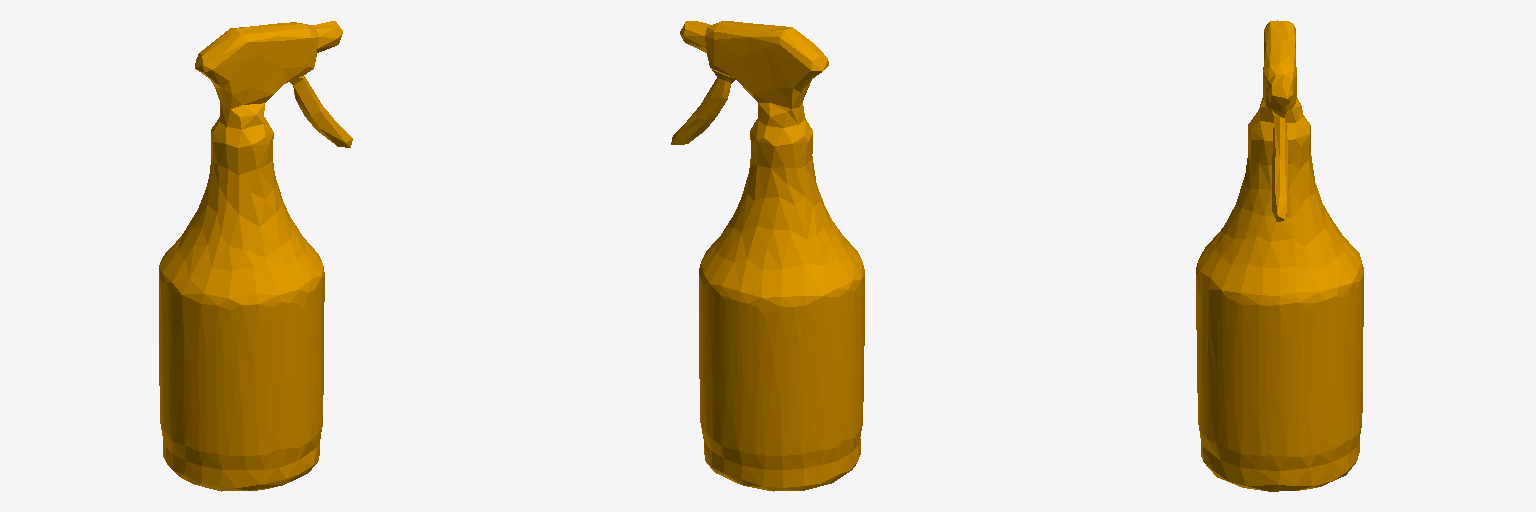
The robot description file, URDF, robot "spray_bottle_poisson_003":
<?xml version="1.0"?>
<robot name="spray_bottle_poisson_003">
  <link name="base_link">
    <contact>
      <lateral_friction value="1.0"/>
      <rolling_friction value="0.0"/>
      <contact_cfm value="0.0"/>
      <contact_erp value="1.0"/>
    </contact>
    <inertial>
      <mass value="0.368978591472"/>
      <inertia ixx="1" ixy="0" ixz="0" iyy="1" iyz="0" izz="1"/>
    </inertial>
    <visual>
      <geometry>
        <mesh filename="spray_bottle_poisson_003_visual.obj"/>
      </geometry>
    </visual>
    <collision>
      <geometry>
        <mesh filename="spray_bottle_poisson_003_collision.obj"/>
      </geometry>
    </collision>
  </link>
</robot>

--- What the picture shows (computed from the rendered views, not written in the file) ---
Views: 3 orthographic renders of the robot side by side, from view 1: azimuth 30°, elevation 25°; view 2: azimuth 150°, elevation 25°; view 3: azimuth 270°, elevation 25°.
Robot: spray_bottle_poisson_003 — 1 links, 0 joints (none); root link base_link; default pose: every joint at zero.
Links seen in each view (by area): view 1: base_link; view 2: base_link; view 3: base_link.
Link boxes in pixels (box(x1,y1,x2,y2)): base_link: box(159, 21, 352, 491); base_link: box(671, 21, 864, 491); base_link: box(1196, 20, 1363, 491).
Size in the robot's own frame: 0.07 by 0.055 by 0.162 metres.
1 mesh visuals loaded from 1 distinct referenced files (1 OBJ).